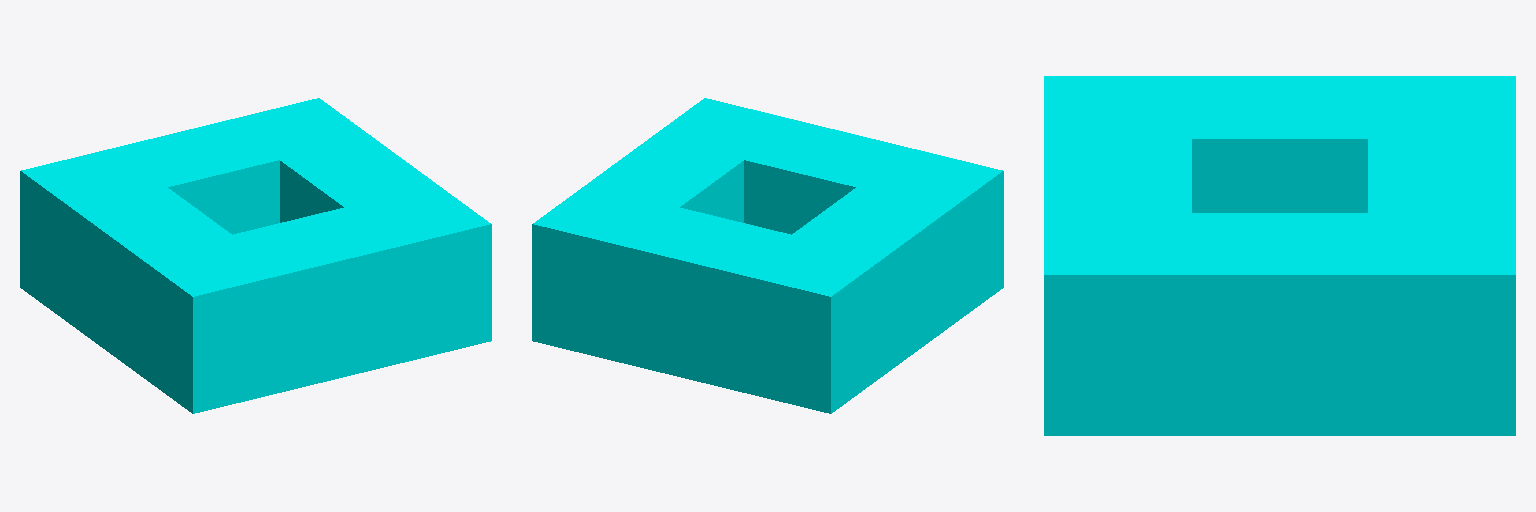
robot.urdf — 1.5in squarehole_C.SLDPRT:
<?xml version="1.0" encoding="utf-8"?>
<!-- This URDF was automatically created by SolidWorks to URDF Exporter! Originally created by [author] ([email redacted]) 
     Commit Version: 1.5.1-0-g916b5db  Build Version: 1.5.7152.31018
     For more information, please see http://wiki.ros.org/sw_urdf_exporter -->
<robot
  name="1.5in squarehole_C.SLDPRT">
  <link
    name="1.5in squarehole_C.SLDPRT">
    <inertial>
      <origin
        xyz="1.2531E-18 1.16643755201581E-18 0.01905"
        rpy="0 0 0" />
      <mass
        value="0.33798" />
      <inertia
        ixx="0.00037251"
        ixy="3.7683E-20"
        ixz="-6.1606E-21"
        iyy="0.00037251"
        iyz="1.77671125655159E-20"
        izz="0.00066325" />
    </inertial>
    <visual>
      <origin
        xyz="0 0 0"
        rpy="1.5707963267949 0 0" />
      <geometry>
        <mesh
          filename="package://1.5in squarehole_C.SLDPRT/meshes/1.5in squarehole_C.SLDPRT.STL" />
      </geometry>
      <material
        name="">
        <color
          rgba="0 1 1 1" />
        <texture
          filename="package://1.5in squarehole_C.SLDPRT/textures/" />
      </material>
    </visual>
    <collision>
      <origin
        xyz="0 0 0"
        rpy="1.5707963267949 0 0" />
      <geometry>
        <mesh
          filename="package://1.5in squarehole_C.SLDPRT/meshes/1.5in squarehole_C.SLDPRT.STL" />
      </geometry>
    </collision>
  </link>
</robot>

--- Facts derived from the render (not from the file) ---
The picture shows the robot from 3 angles, left to right: view 1: azimuth 30°, elevation 25°; view 2: azimuth 150°, elevation 25°; view 3: azimuth 270°, elevation 25°; orthographic projection.
Model 1.5in squarehole_C.SLDPRT with 1 links and 0 joints (none), rooted at 1.5in squarehole_C.SLDPRT, posed all joints at 0.
Links seen in each view (by area): view 1: 1.5in squarehole_C.SLDPRT; view 2: 1.5in squarehole_C.SLDPRT; view 3: 1.5in squarehole_C.SLDPRT.
Boxes of the visible links, x1,y1,x2,y2 form: 1.5in squarehole_C.SLDPRT: (20,98,491,413); 1.5in squarehole_C.SLDPRT: (532,98,1003,413); 1.5in squarehole_C.SLDPRT: (1044,76,1515,435).
Bounding box of the posed robot: 0.1016 × 0.1016 × 0.0381 m (x, y, z).
1 mesh visuals loaded from 1 distinct referenced files (1 binary STL).
